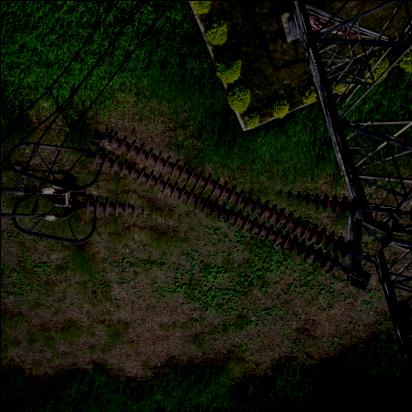insulator: (75, 149, 387, 266)
